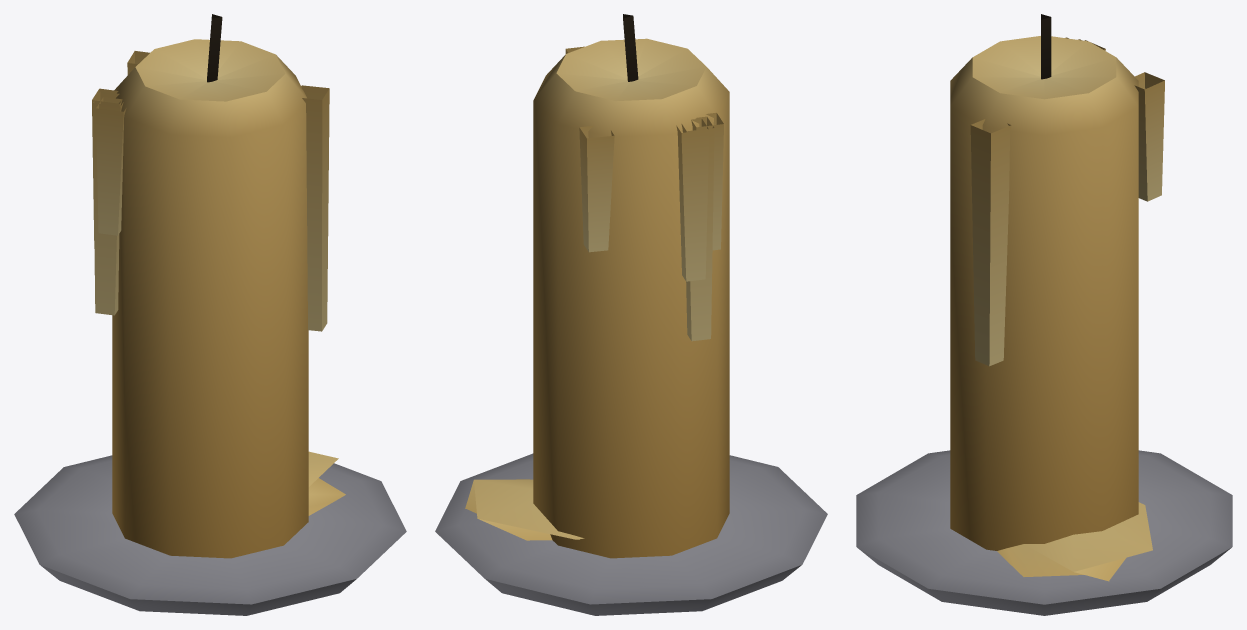
Rendered from altar_candle.glb.
The picture shows the model from 3 angles, left to right: view 1: azimuth 30°, elevation 25°; view 2: azimuth 150°, elevation 25°; view 3: azimuth 270°, elevation 25°; orthographic projection.
Visible parts, largest first — view 1: altar_candle; view 2: altar_candle; view 3: altar_candle.
Part boxes in pixels (x1=…): altar_candle: x1=14, y1=14, x2=406, y2=615; altar_candle: x1=435, y1=14, x2=827, y2=615; altar_candle: x1=856, y1=14, x2=1232, y2=615.
Size of the model in its own units: 0.68 by 1 by 0.6467.
